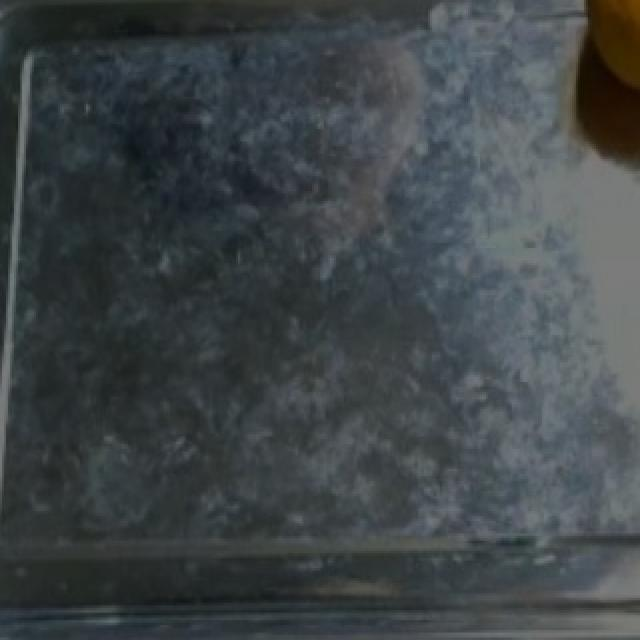Fruit: (538, 0, 640, 127)
